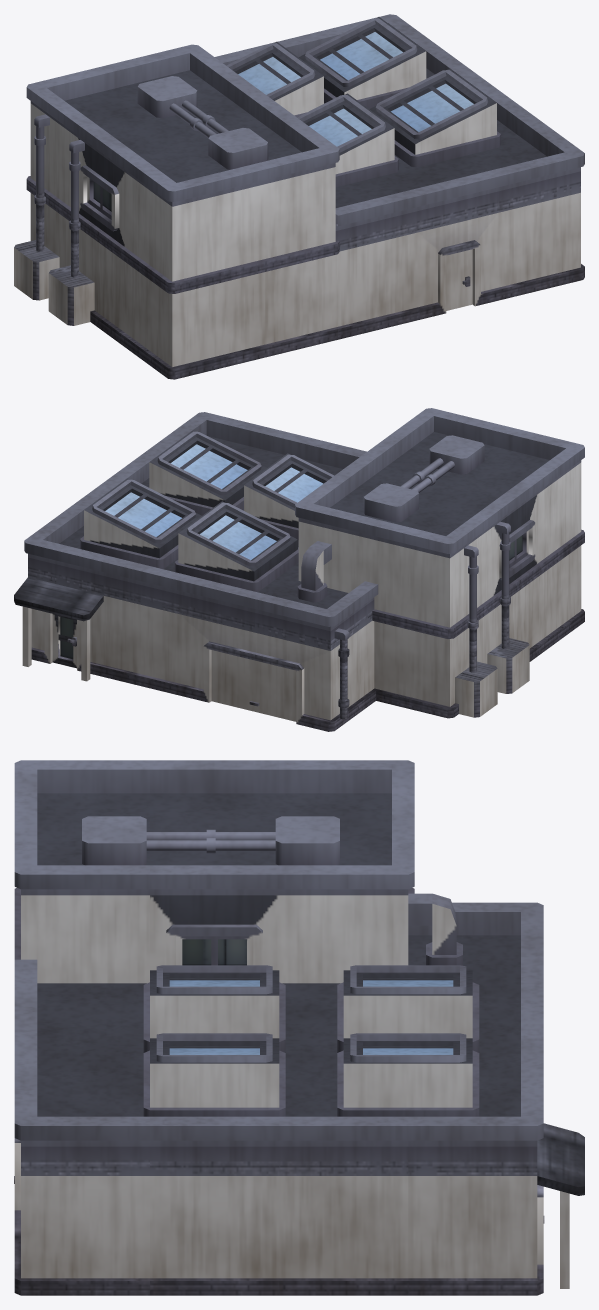
File: building-q-white.glb
3 views of the same model, one above another, from view 1: azimuth 30°, elevation 25°; view 2: azimuth 150°, elevation 25°; view 3: azimuth 270°, elevation 25° (orthographic). The views are drawn at different scales.
Parts seen in each view (by area): view 1: building-q; view 2: building-q; view 3: building-q.
Part boxes in pixels (x1=…): building-q: x1=14, y1=14, x2=584, y2=379; building-q: x1=14, y1=408, x2=584, y2=731; building-q: x1=14, y1=760, x2=584, y2=1295.
Bounding box in the file's own units: 2.14 × 0.88 × 1.77.
Materials: 1 (1 with a texture image).
